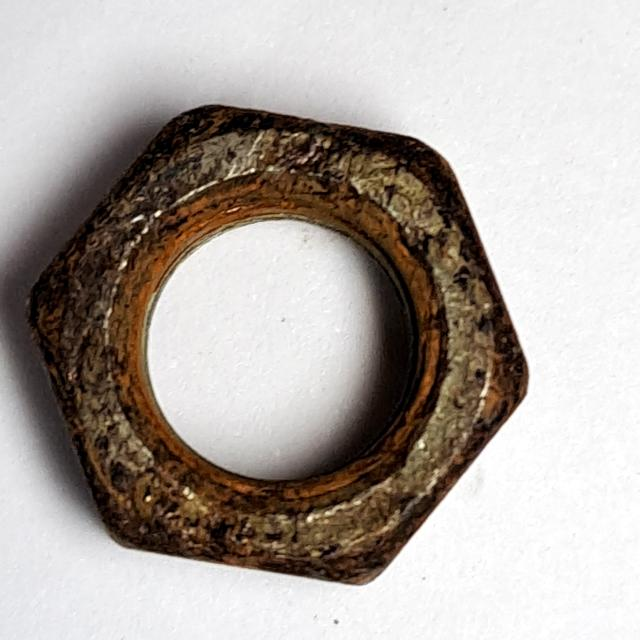Rust: (12, 92, 544, 604)
